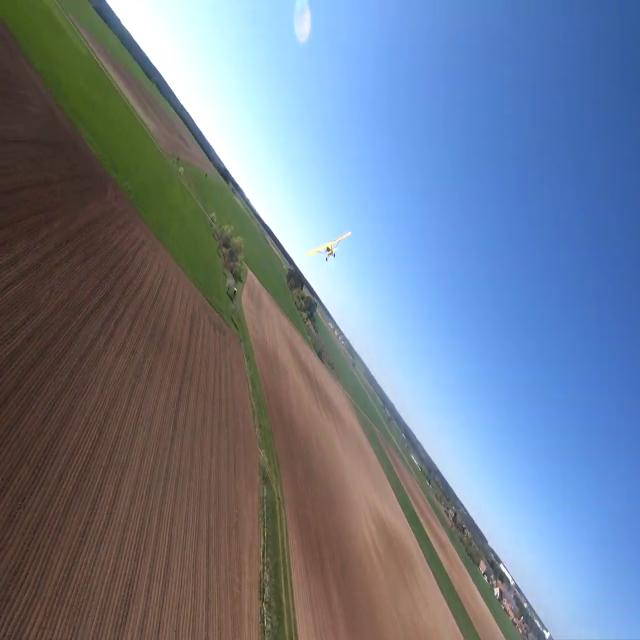iha: (299, 231, 345, 264)
